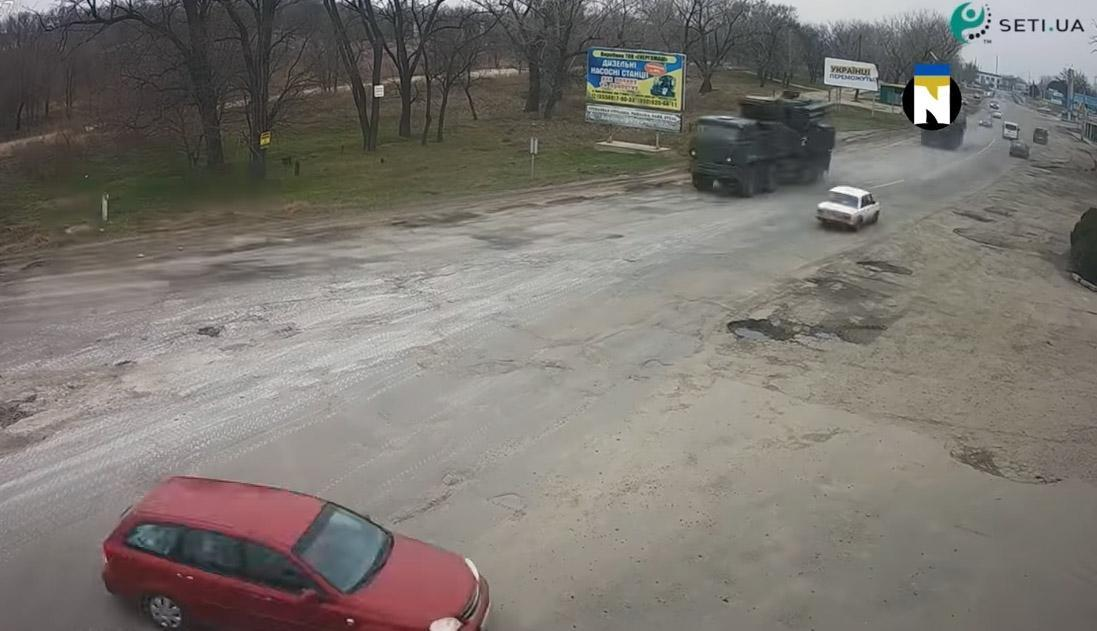car: (80, 476, 495, 625), (814, 180, 886, 234), (1028, 125, 1056, 148), (1001, 120, 1024, 143), (1005, 142, 1032, 161)
truck: (682, 86, 845, 192)
